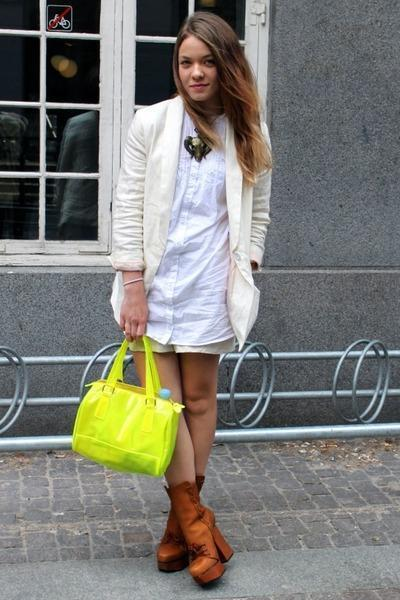bag: (70, 338, 184, 475)
jacket: (108, 96, 270, 338)
shirt: (110, 118, 240, 352)
shoe: (144, 473, 233, 590)
shorts: (132, 334, 239, 371)
